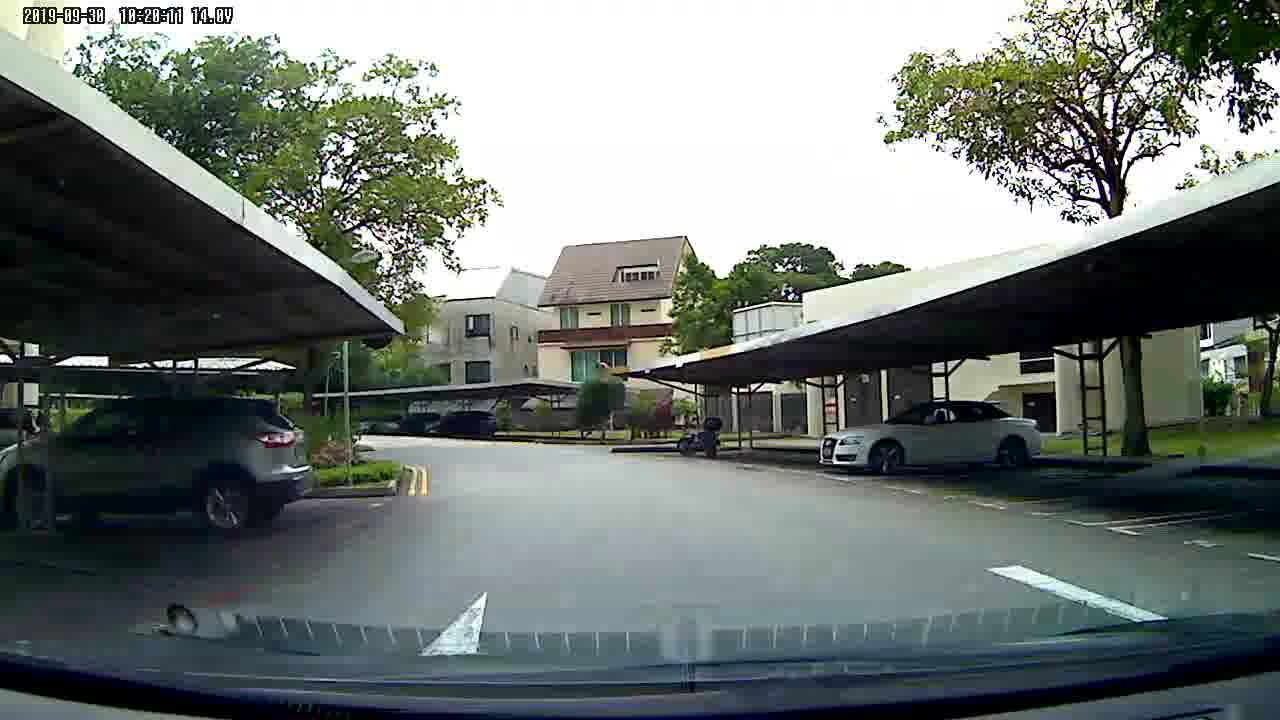car: (1, 396, 318, 547), (809, 396, 1055, 492)
